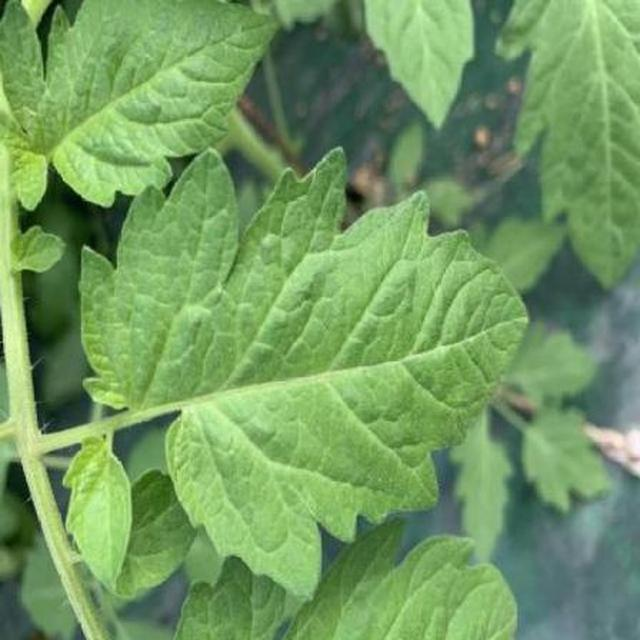Healthy Leaf: (101, 151, 640, 640)
